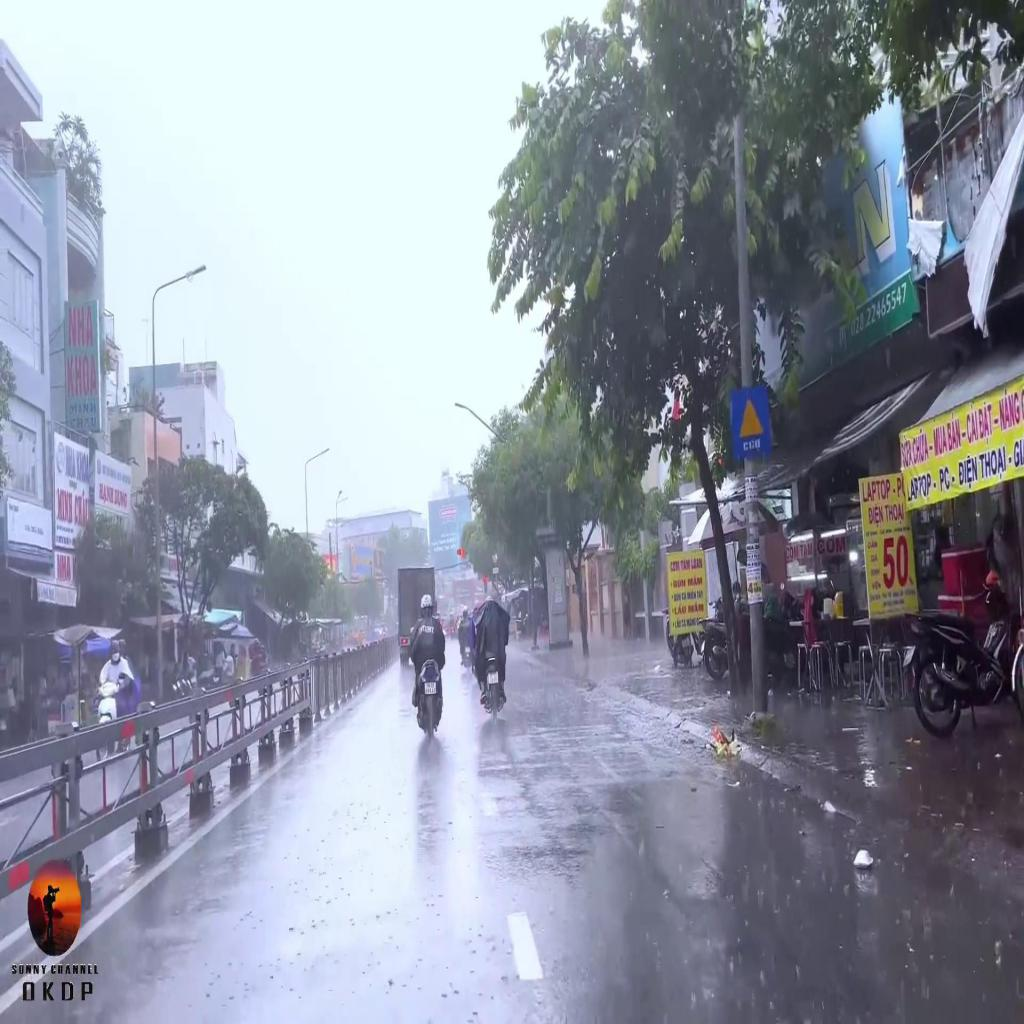cho: (730, 388, 772, 458)
